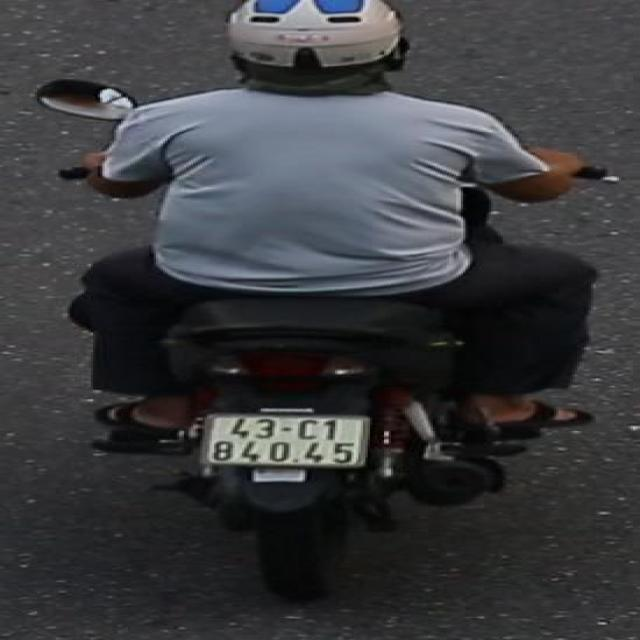LP: (197, 406, 376, 470)
helmet: (225, 0, 420, 96)
